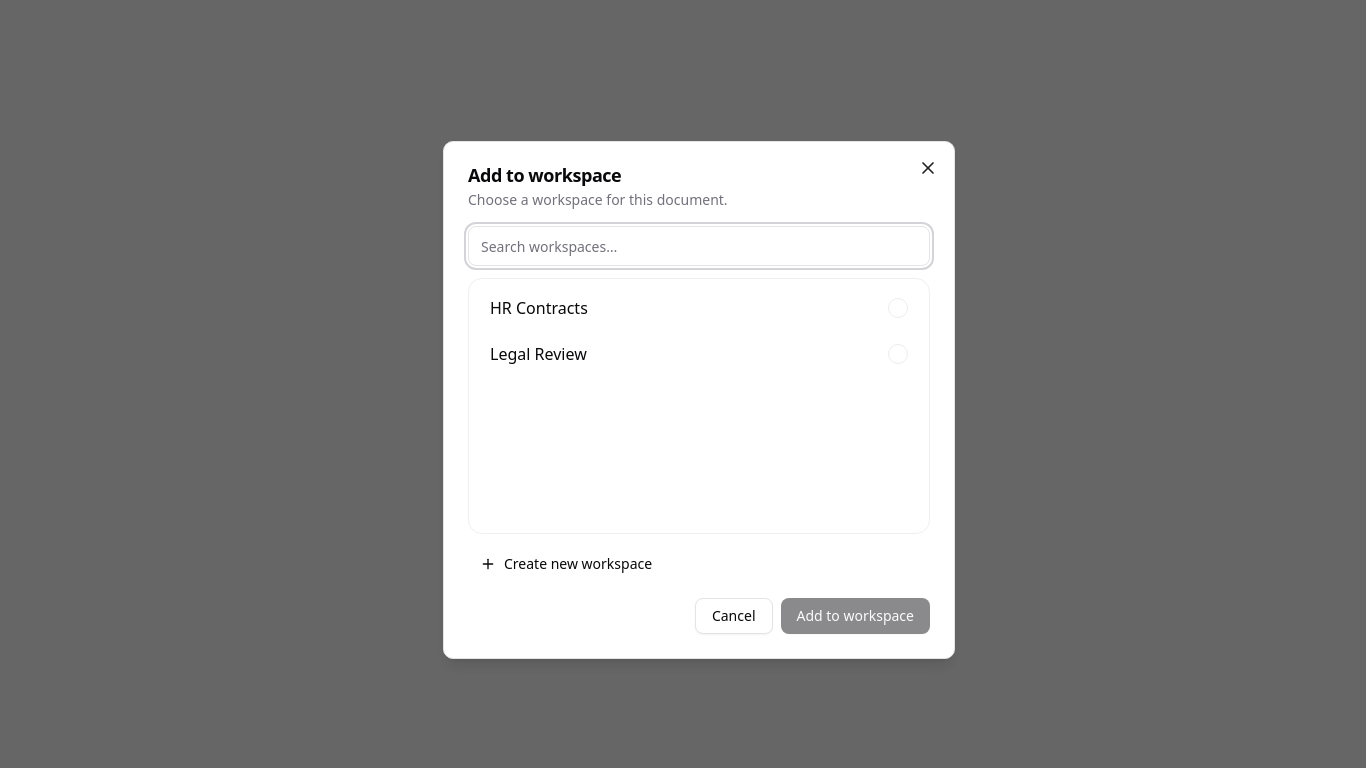
it: AddToWorkspaceDialog › filters workspaces by search text
In the field with placeholder "Search workspaces…": (699, 246) [468,226,930,266], type "legal"
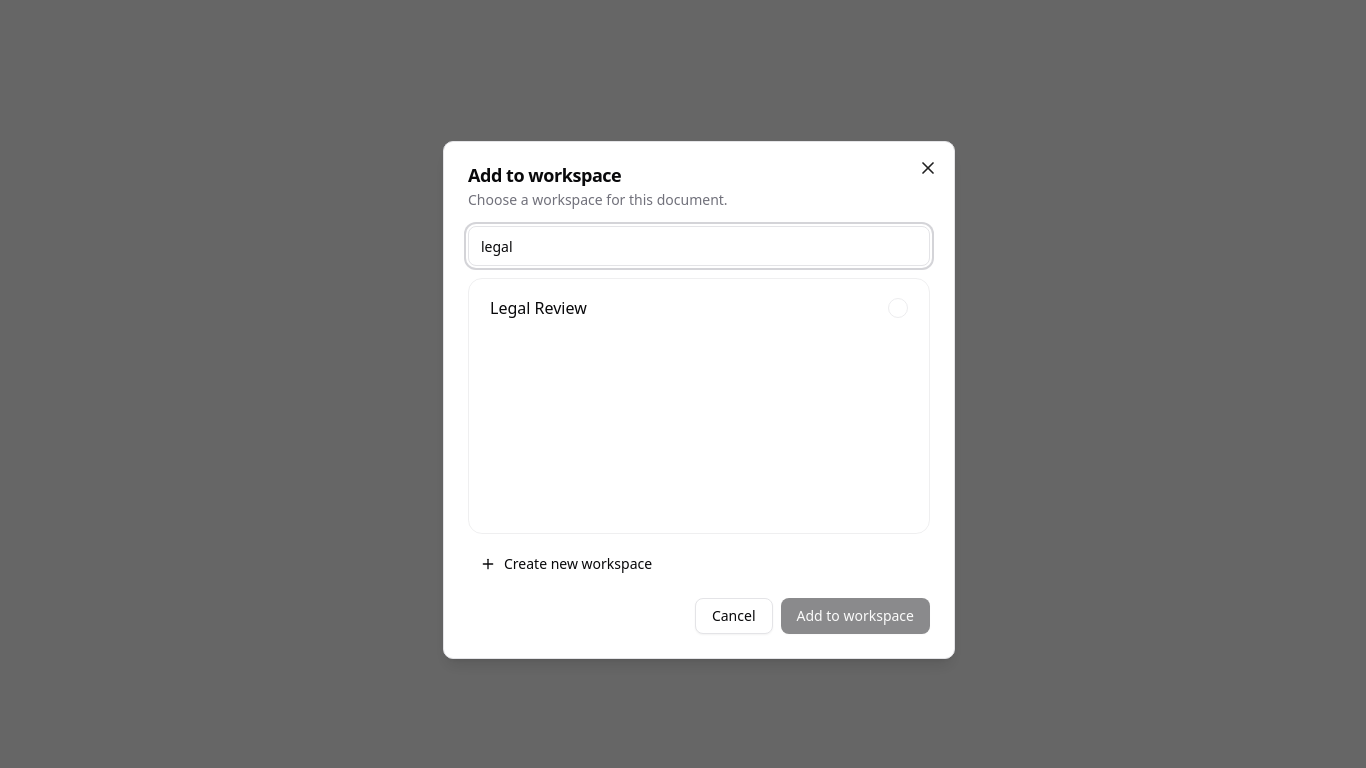
expect the text "Legal Review" is shown: met, box [490,296,587,320]
expect the button "HR Contracts" is gone: met
